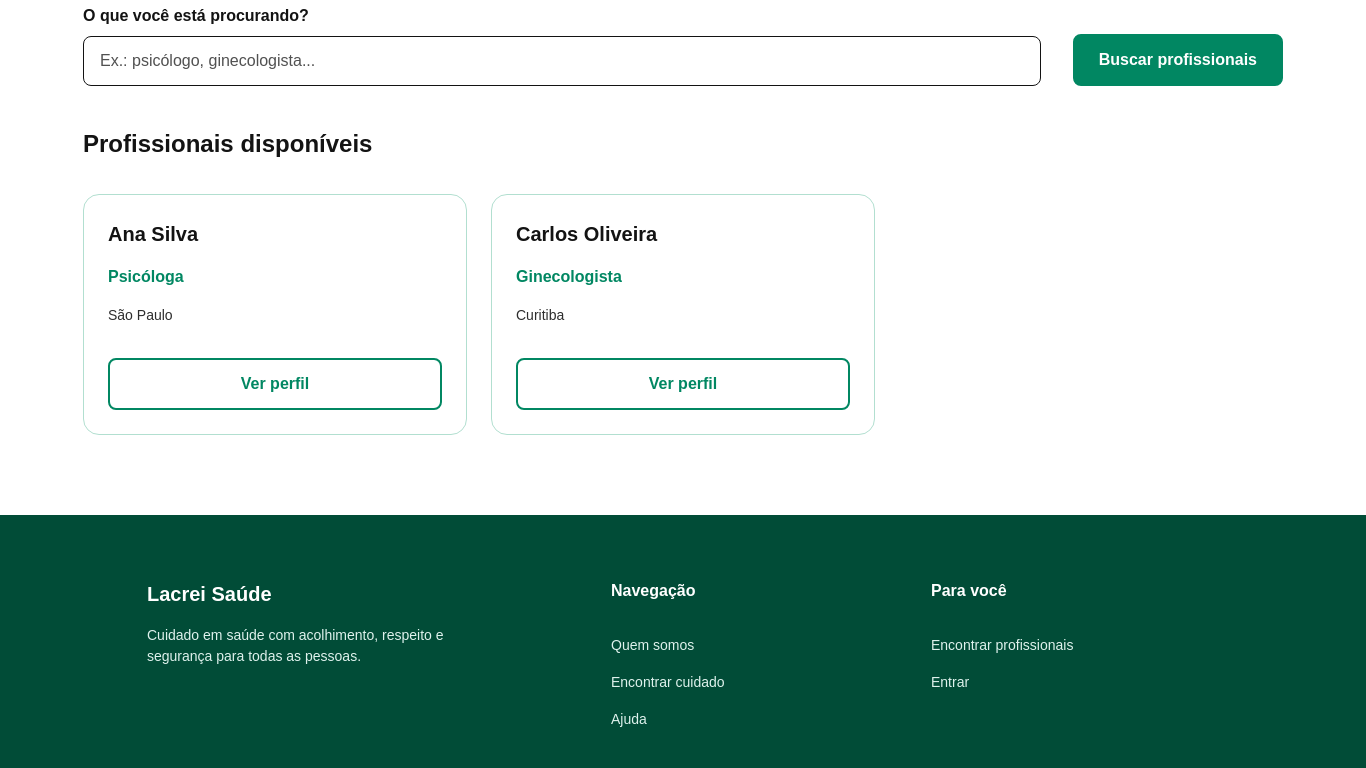
Test: BuscarPage › fecha o modal pelo botão de fechar
(page scrolled)
Expected: the heading "Ana Silva" is shown, [108, 223, 198, 245]
Click the button "Ver perfil" below "São Paulo". click: (275, 384)
box: [108, 358, 442, 410]
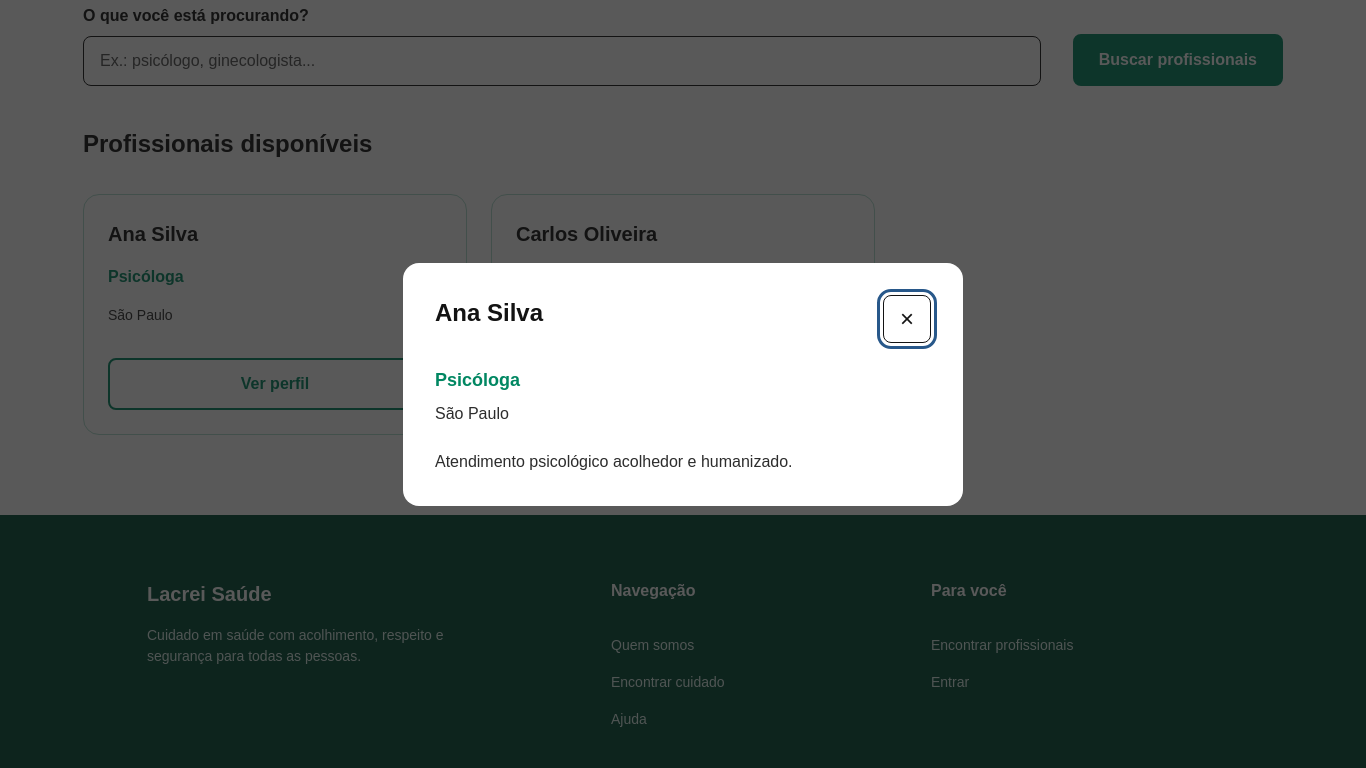
Now the dialog is shown, box [403, 262, 963, 506]
Click the button named "fechar". click: (907, 318)
box: [883, 294, 931, 342]
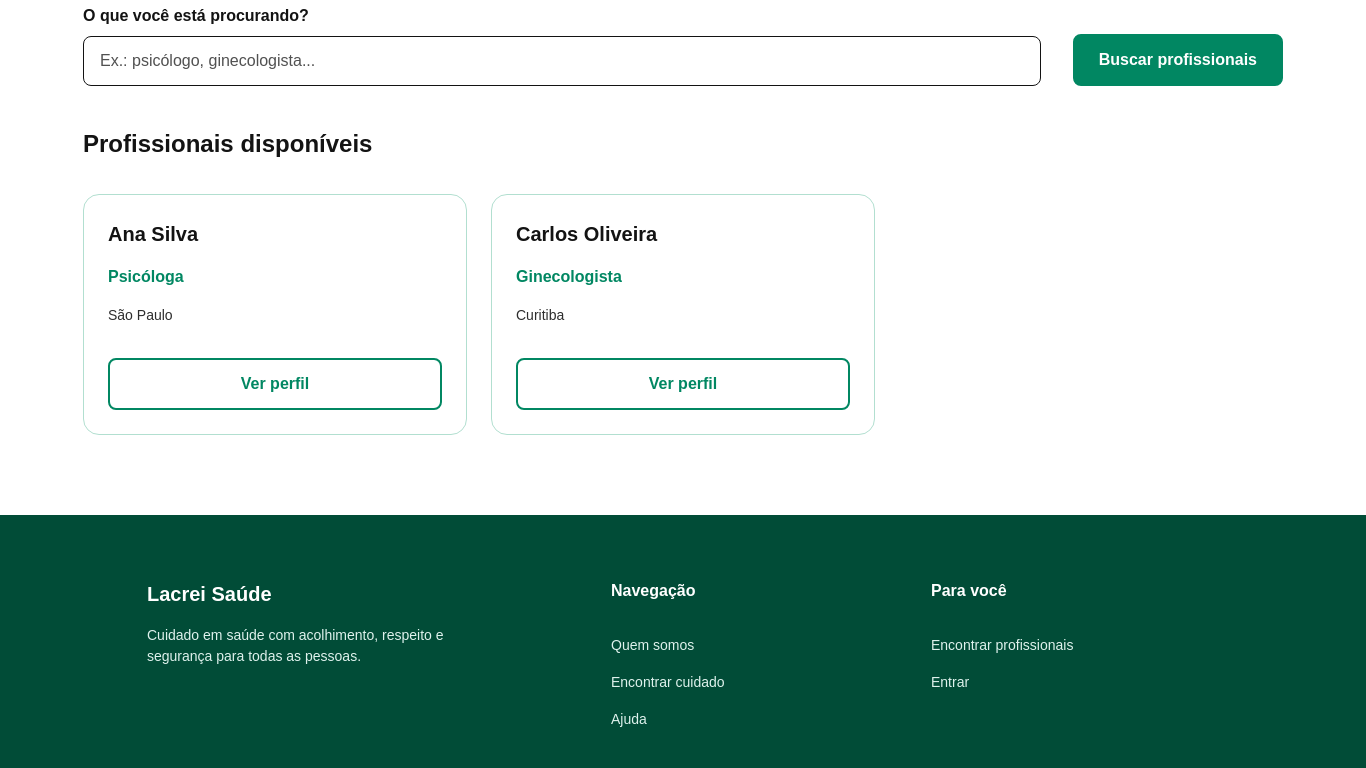
Now the dialog is gone
